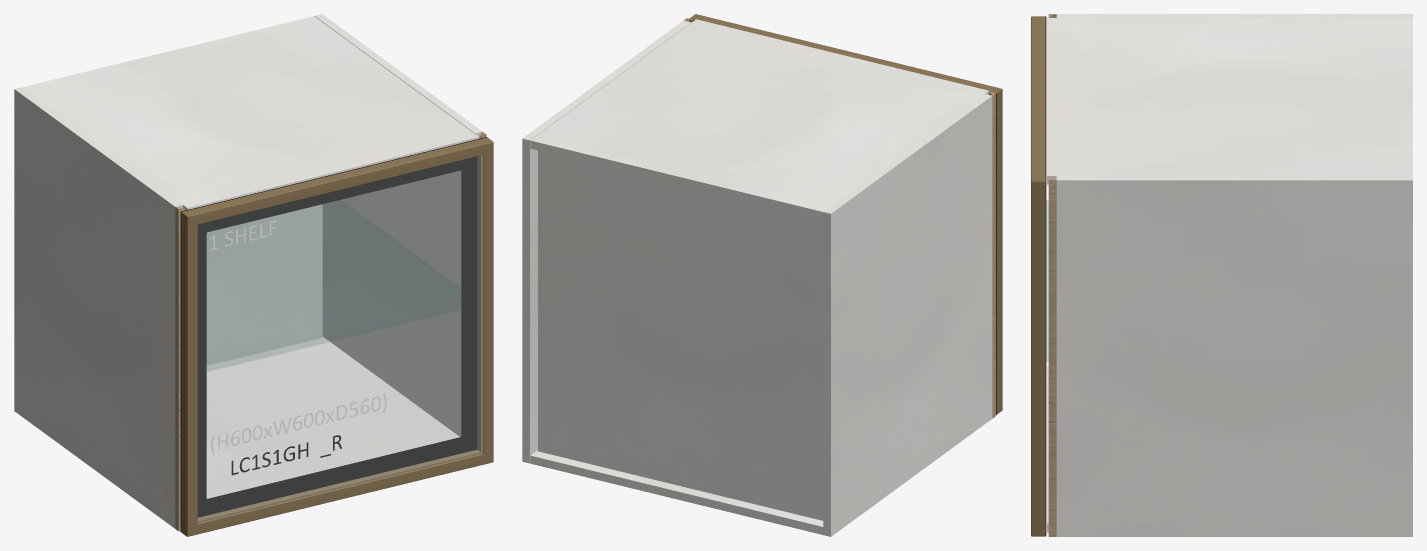
The model's file is LOF-SH-NHX-GL-1SG-RHS-XXX-600-600-560-15.glb.
The picture shows the model from 3 angles, left to right: view 1: azimuth 30°, elevation 25°; view 2: azimuth 150°, elevation 25°; view 3: azimuth 270°, elevation 25°; orthographic projection. The views are drawn at different scales.
Visible parts, largest first — view 1: Object_node_4, TP_node_0, TP, TP_node_1, TP_node, Neon 22 Profile ALU PROF NEON 20 L21XH22.5MM 3MTR S2/405 SEC (×4), Object_node_6, TP_node_2, Object_node_8, 2D text_node_0, 2D text_node; view 2: TP_node_2, TP_node_0, TP, TP_node_1, TP_node, Neon 22 Profile ALU PROF NEON 20 L21XH22.5MM 3MTR S2/405 SEC (×2), Object_node_8; view 3: TP_node_1, TP, Neon 22 Profile ALU PROF NEON 20 L21XH22.5MM 3MTR S2/405 SEC (×2), Object_node_14, TP_node_0, Object_node_6.
Boxes of the visible parts, bbox=[...] form: Object_node_4: bbox=[198, 155, 482, 522]; TP_node_0: bbox=[14, 87, 182, 528]; TP: bbox=[22, 16, 479, 210]; TP_node_1: bbox=[314, 14, 482, 436]; TP_node: bbox=[206, 337, 459, 498]; Neon 22 Profile ALU PROF NEON 20 L21XH22.5MM 3MTR S2/405 SEC (×4): bbox=[181, 137, 493, 536]; Object_node_6: bbox=[180, 137, 486, 531]; TP_node_2: bbox=[206, 204, 322, 365]; Object_node_8: bbox=[175, 206, 184, 531]; 2D text_node_0: bbox=[211, 393, 386, 454]; 2D text_node: bbox=[231, 435, 341, 475]; TP_node_2: bbox=[538, 150, 823, 520]; TP_node_0: bbox=[823, 94, 992, 536]; TP: bbox=[530, 19, 988, 219]; TP_node_1: bbox=[522, 20, 691, 463]; TP_node: bbox=[530, 450, 823, 534]; Neon 22 Profile ALU PROF NEON 20 L21XH22.5MM 3MTR S2/405 SEC (×2): bbox=[690, 14, 1002, 414]; Object_node_8: bbox=[988, 91, 995, 418]; TP_node_1: bbox=[1056, 176, 1412, 536]; TP: bbox=[1047, 18, 1412, 184]; Neon 22 Profile ALU PROF NEON 20 L21XH22.5MM 3MTR S2/405 SEC (×2): bbox=[1031, 16, 1045, 536]; Object_node_14: bbox=[1048, 177, 1056, 536]; TP_node_0: bbox=[1056, 14, 1412, 17]; Object_node_6: bbox=[1045, 16, 1046, 536].
Size of what is drawn, in the model's own units: 0.6 by 0.6 by 0.582.
8 materials, 2 textured.
